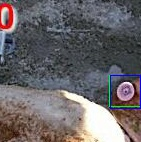text: (109, 75, 140, 106)
